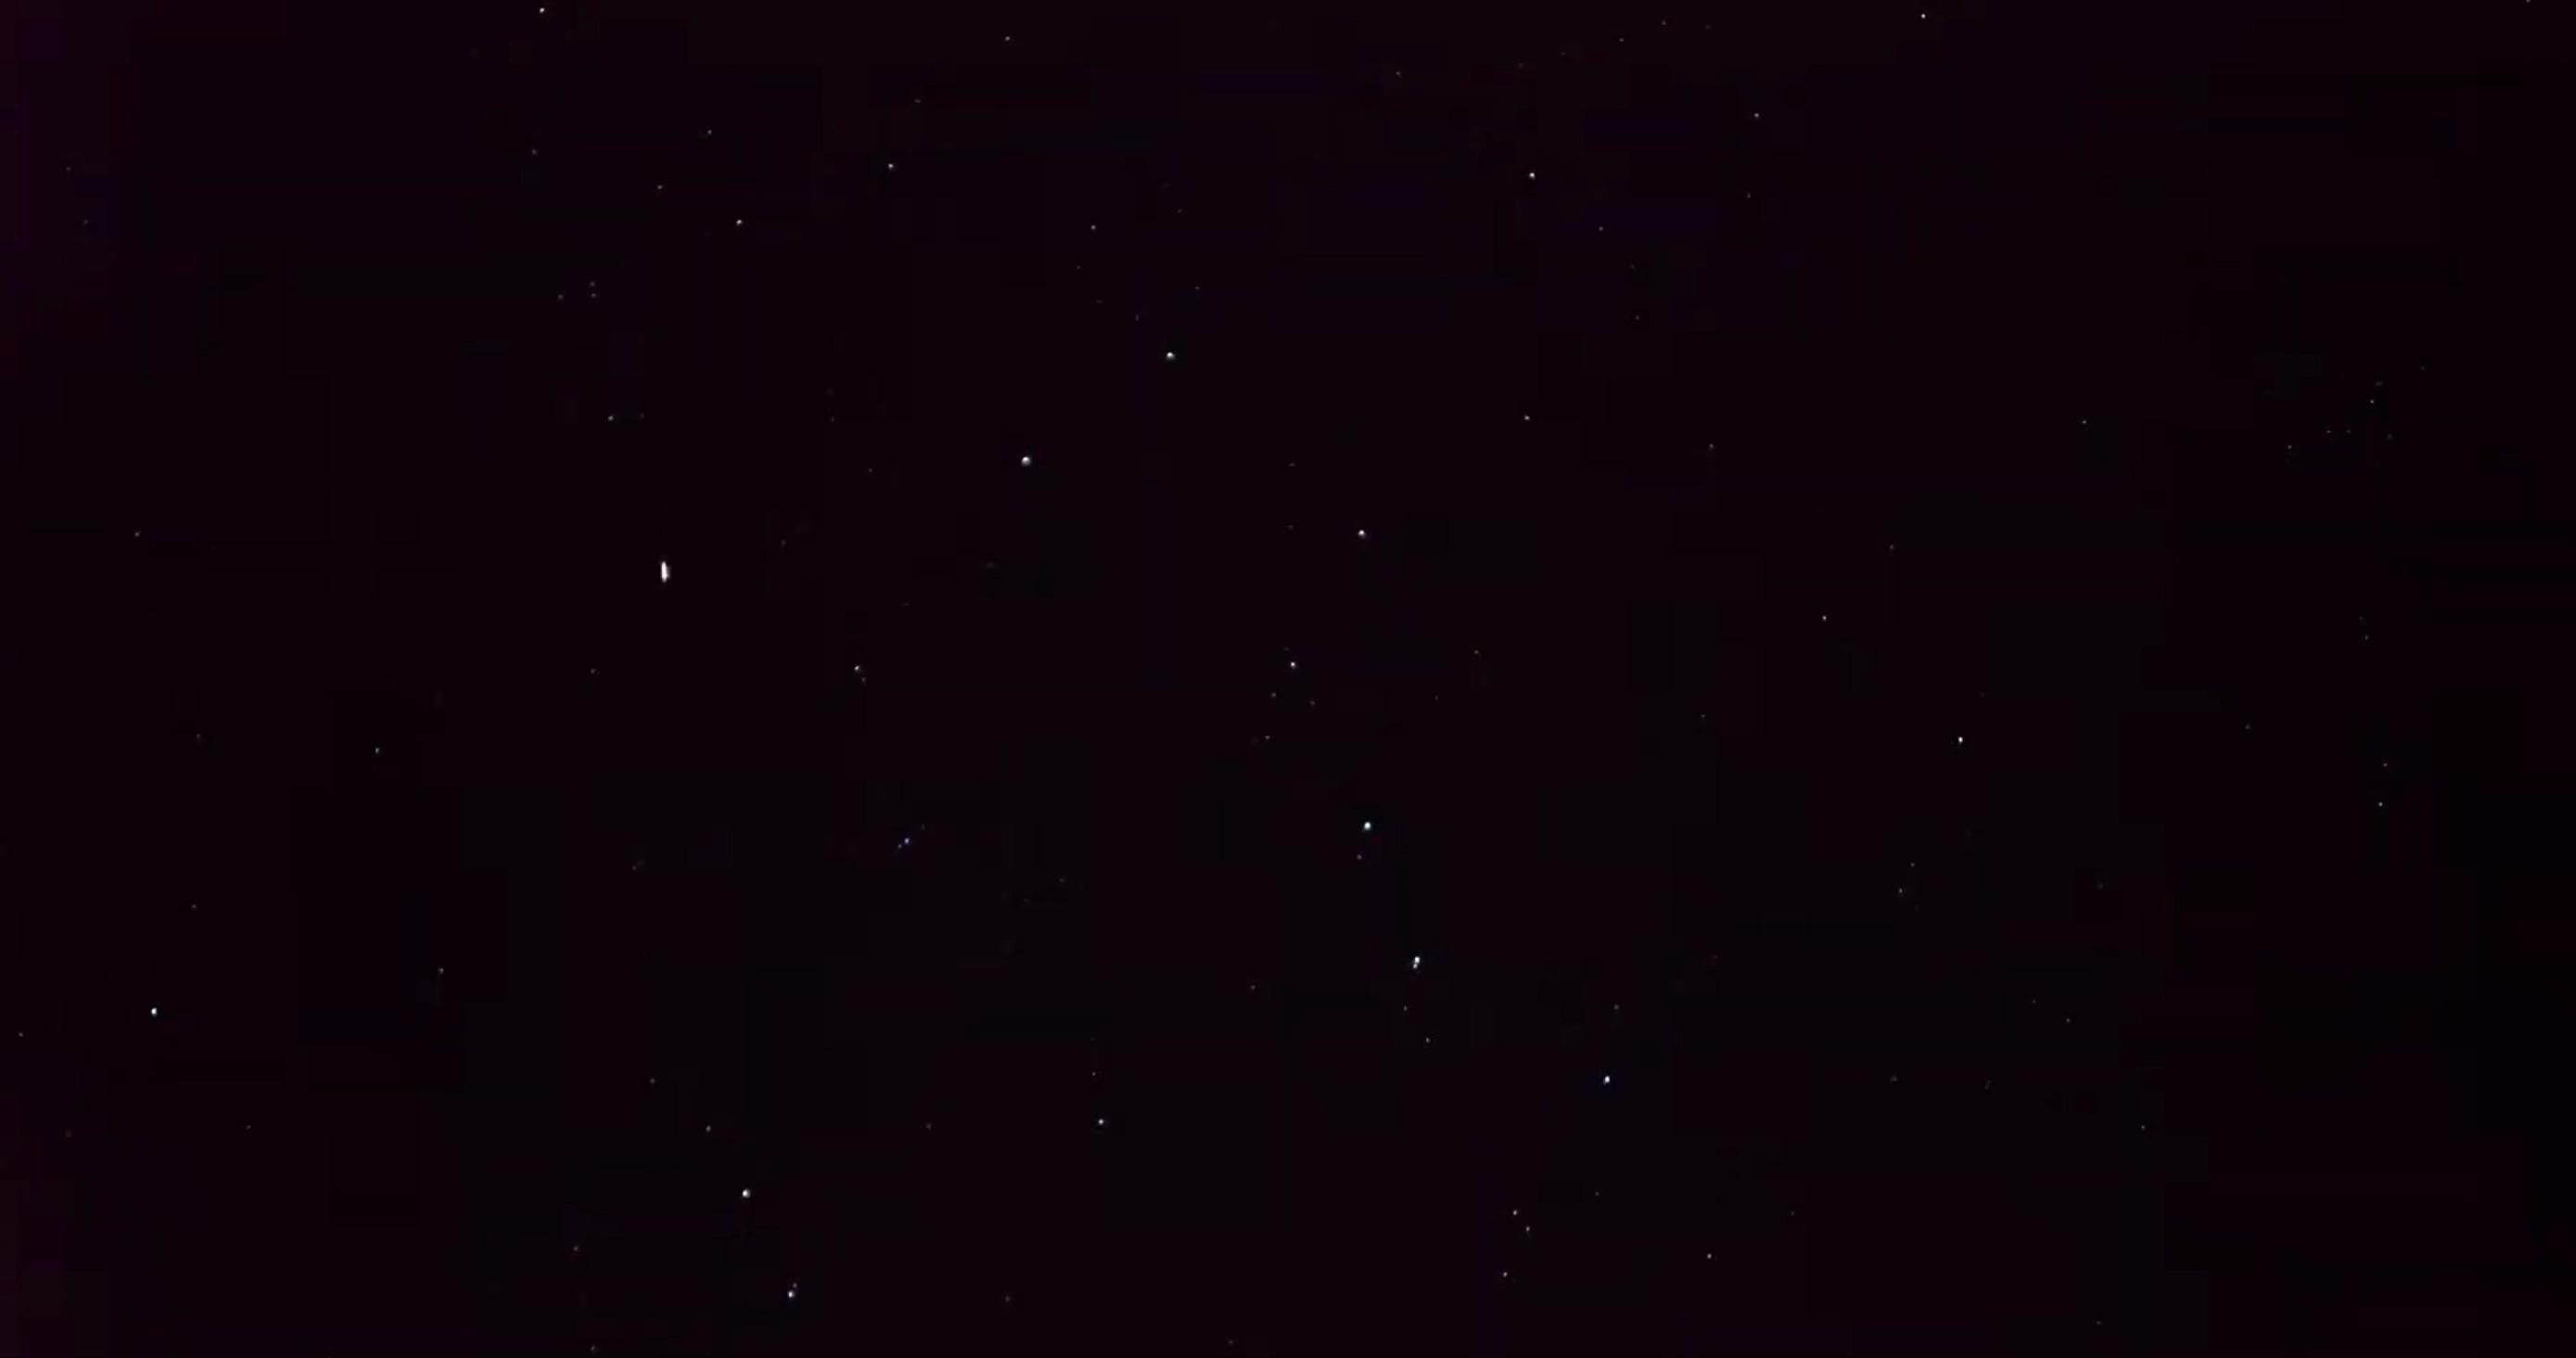meteorite: (603, 542, 729, 601)
